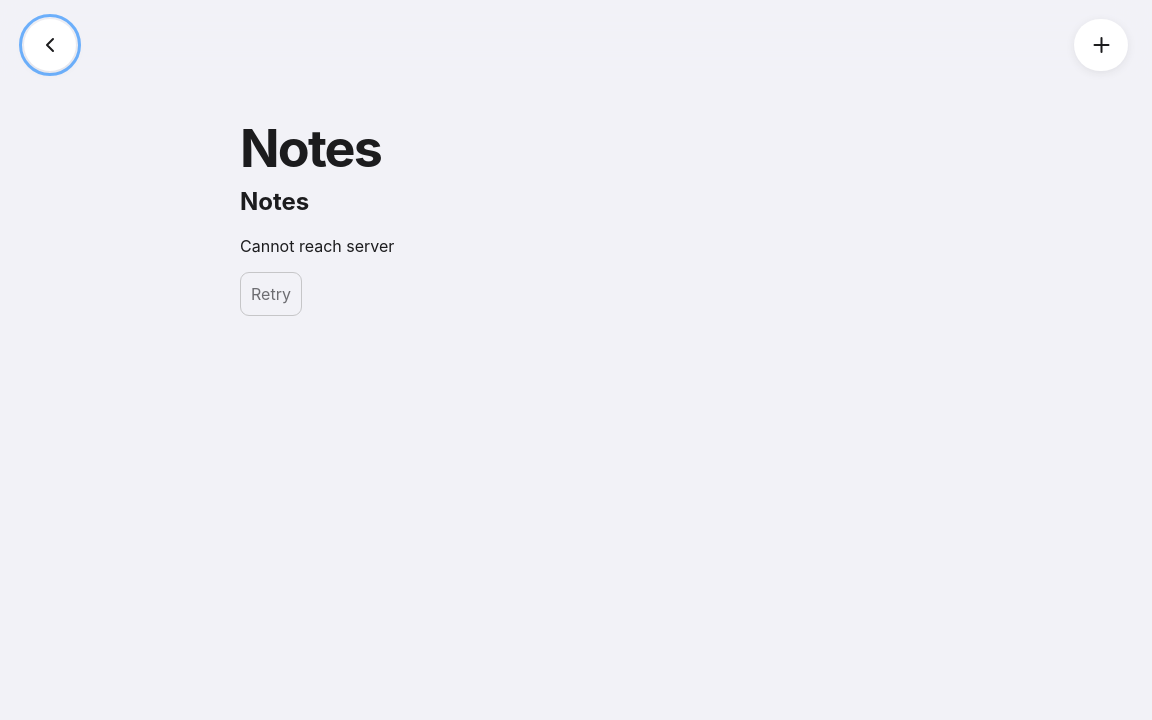
Scenario: retries failed history reads and refreshes after note changes
Later steps or results of the test are not shown.
Expected: the message shows "Cannot reach server", [240,236,394,256]
Click the button "Retry" at (271,294), box [240,272,302,316]
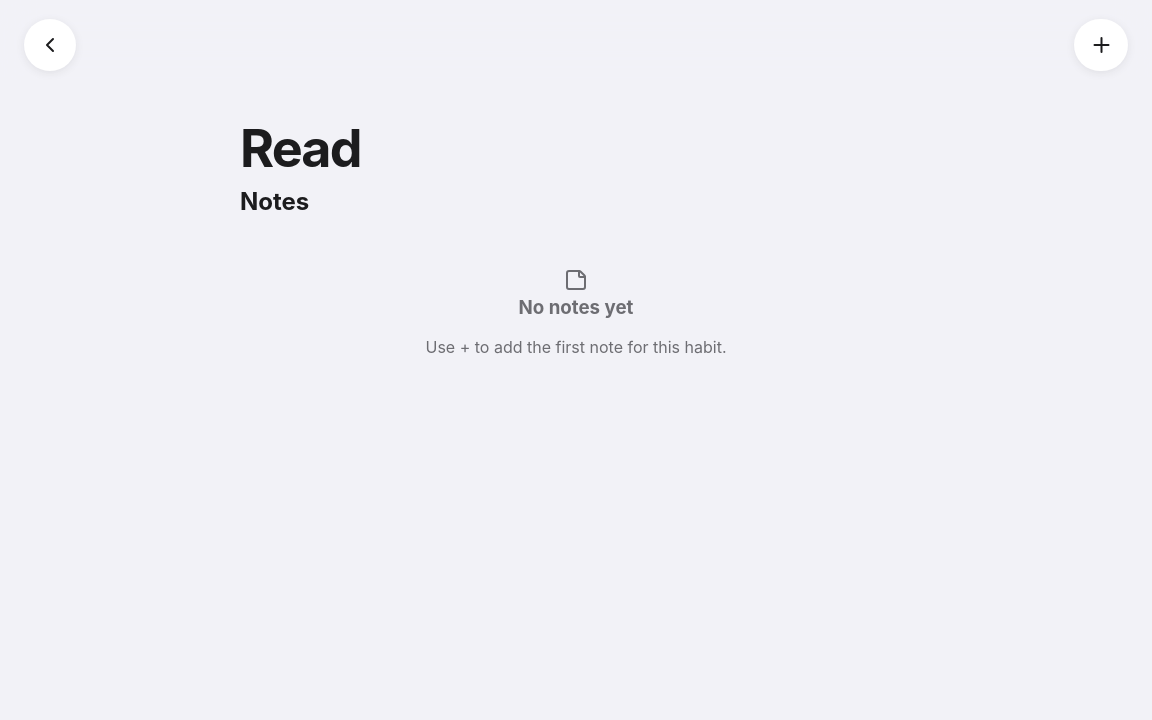
Result: the heading "No notes yet" is shown at [518,296,633,318]
